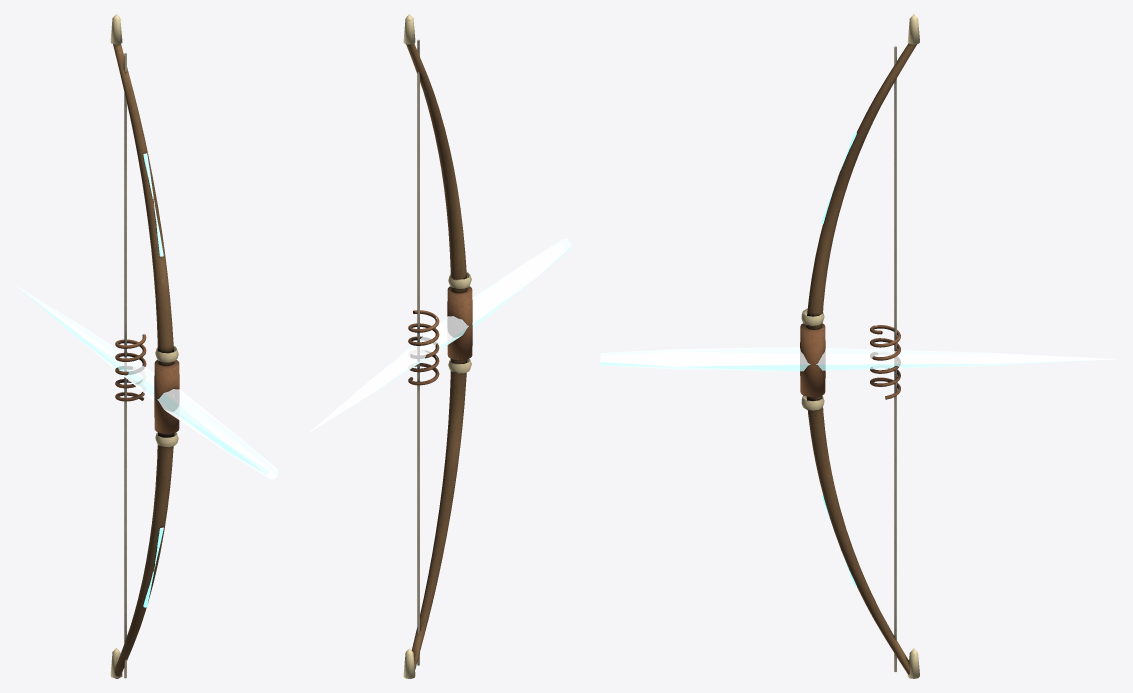
The model's file is arma_arco_longo_excelente.glb.
The picture shows the model from 3 angles, left to right: view 1: azimuth 30°, elevation 25°; view 2: azimuth 150°, elevation 25°; view 3: azimuth 270°, elevation 25°; orthographic projection.
Visible parts, largest first — view 1: arma_arco_longo_excelente, gema_arco; view 2: arma_arco_longo_excelente, gema_arco; view 3: arma_arco_longo_excelente, gema_arco.
Part boxes in pixels (x1,y1,x2,y2): arma_arco_longo_excelente: [110, 14, 179, 678]; gema_arco: [15, 285, 278, 479]; arma_arco_longo_excelente: [403, 14, 472, 678]; gema_arco: [308, 238, 571, 433]; arma_arco_longo_excelente: [800, 14, 919, 678]; gema_arco: [600, 347, 1115, 371].
Bounding box in the file's own units: 0.0606 × 1.41 × 1.
4 materials, 1 textured.
